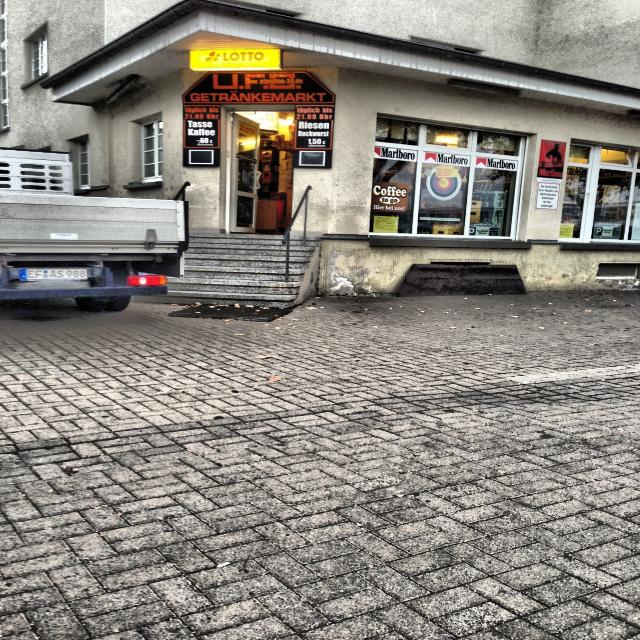escada: (183, 233, 322, 311)
